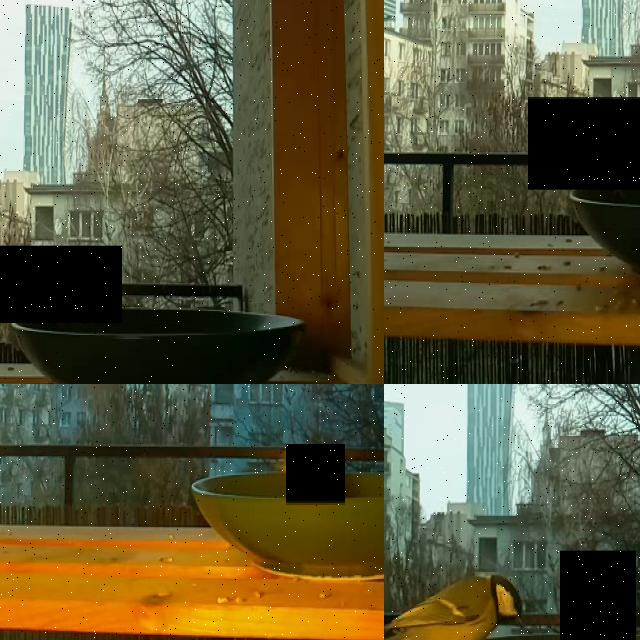Bogatka: (384, 570, 529, 640)
Modraszka: (286, 444, 345, 504)
Wrobel: (528, 97, 640, 189), (0, 245, 122, 323), (560, 550, 636, 640)
